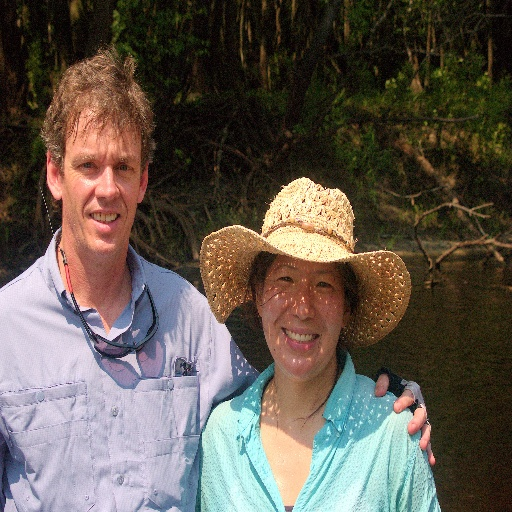hand: (370, 376, 420, 432)
